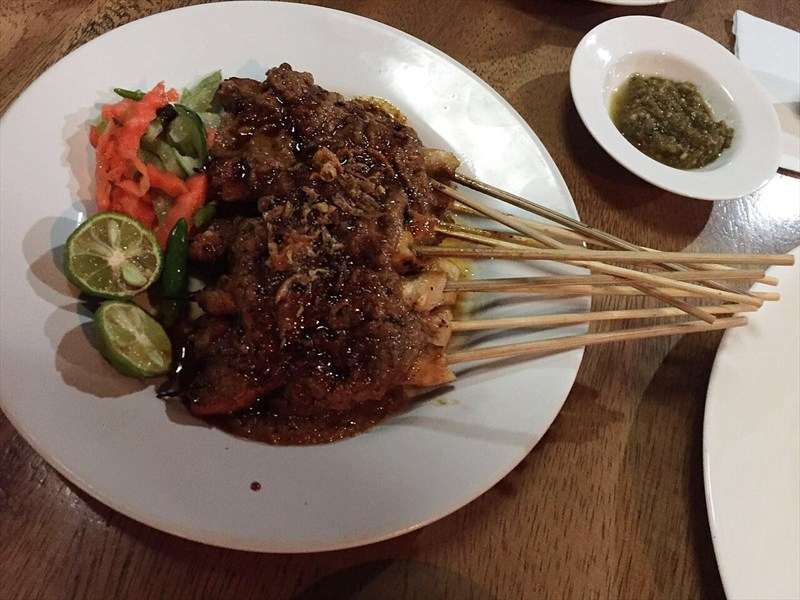Sate Ayam: (92, 34, 738, 501)
